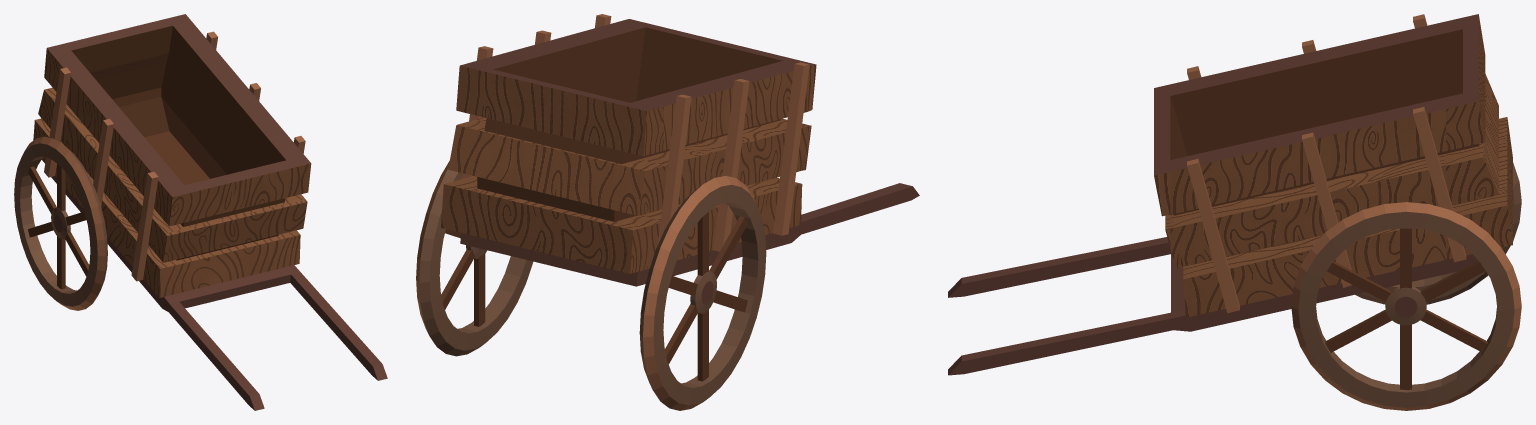
Rendered from Carreta.fbx.
The picture shows the model from 3 angles, left to right: view 1: azimuth 30°, elevation 25°; view 2: azimuth 150°, elevation 25°; view 3: azimuth 270°, elevation 25°; orthographic projection. The views are drawn at different scales.
Parts seen in each view (by area): view 1: Carreta; view 2: Carreta; view 3: Carreta.
Boxes of the visible parts, x1,y1,x2,y2 form: Carreta: [14, 14, 387, 410]; Carreta: [416, 14, 919, 410]; Carreta: [948, 14, 1521, 410].
Bounding box in the file's own units: 189 × 237 × 410.
Materials: 5 (1 with a texture image).
